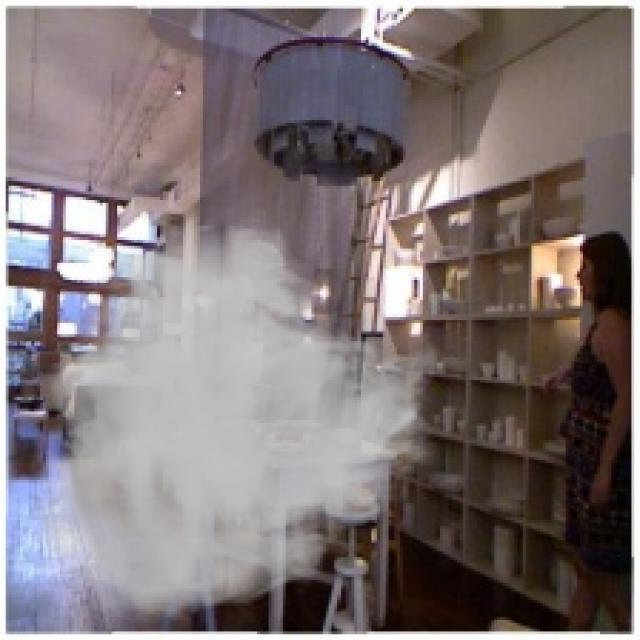smoke: (29, 220, 448, 626)
